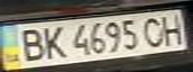4: (66, 20, 90, 56)
5: (118, 17, 145, 52)
6: (87, 19, 109, 55)
9: (103, 19, 127, 54)
B: (12, 26, 48, 63)
C: (139, 15, 169, 47)
H: (157, 12, 190, 46)
K: (36, 24, 69, 61)
